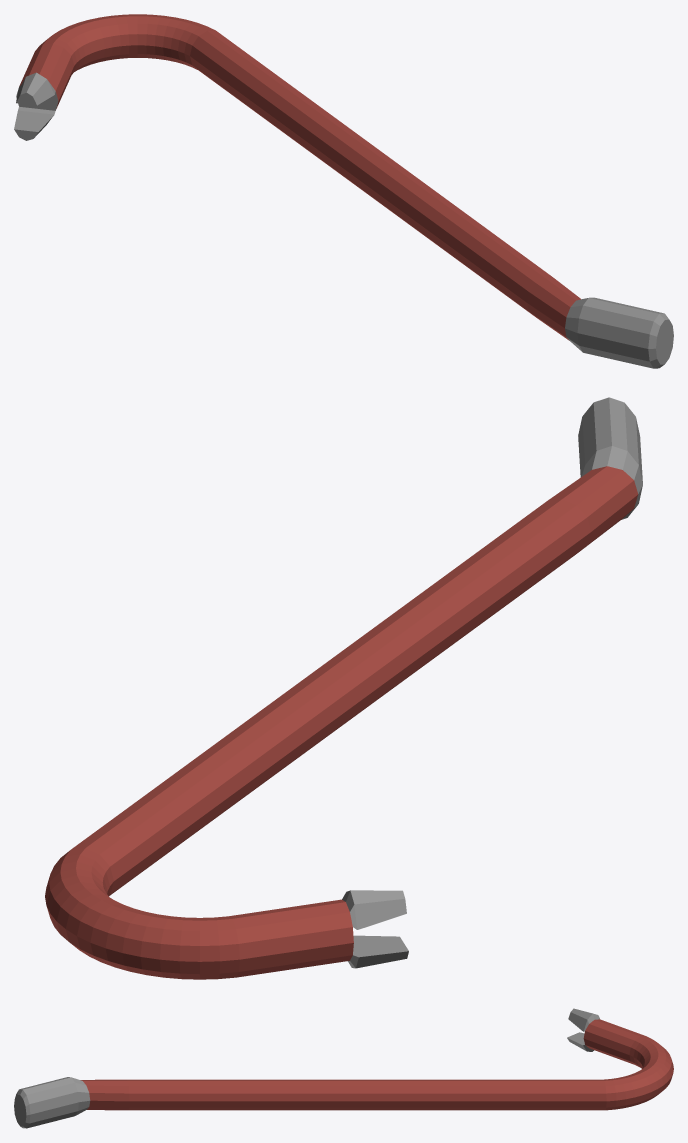
File: palanca.fbx
3 views of the same model, one above another, from view 1: azimuth 30°, elevation 25°; view 2: azimuth 150°, elevation 25°; view 3: azimuth 270°, elevation 25° (orthographic). The views are drawn at different scales.
Visible parts, largest first — view 1: Torus; view 2: Torus; view 3: Torus.
Boxes of the visible parts, <box> form: Torus: <box>14,14,673,368</box>; Torus: <box>45,397,642,979</box>; Torus: <box>14,1008,673,1128</box>.
Bounding box in the file's own units: 80.48 × 15.71 × 241.
